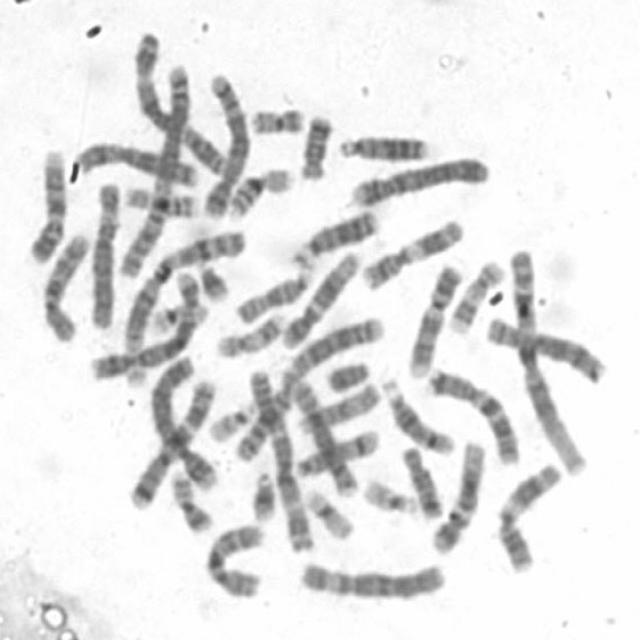A1: (111, 219, 251, 388), (505, 238, 592, 480)
A2: (228, 310, 386, 465), (113, 56, 193, 282)
A3: (127, 26, 229, 176), (243, 362, 318, 554)
B4: (146, 351, 222, 493), (345, 148, 494, 208)
B5: (83, 264, 208, 383), (198, 68, 254, 220)
C10: (36, 226, 94, 344), (199, 515, 268, 601)
C11: (489, 455, 564, 574), (356, 212, 467, 291)
C12: (275, 242, 364, 350), (424, 432, 488, 556)
C6: (293, 553, 452, 603), (84, 174, 124, 333)
C7: (124, 372, 218, 510), (421, 359, 524, 466)
C8: (274, 364, 366, 501), (482, 309, 610, 386)
C9: (403, 258, 464, 379), (23, 140, 71, 266)
D13: (286, 202, 382, 267), (333, 126, 432, 164)
D14: (379, 372, 457, 456), (288, 422, 382, 480)
D15: (230, 258, 318, 326), (293, 377, 385, 434)
E16: (221, 160, 297, 220), (120, 180, 202, 219)
E17: (443, 252, 508, 335), (210, 304, 290, 360)
E18: (395, 439, 446, 520), (294, 108, 336, 182)
F19: (299, 481, 357, 541), (144, 295, 210, 335)
F20: (164, 465, 216, 535), (244, 99, 308, 136)
G21: (247, 464, 280, 524), (192, 256, 232, 303)
G22: (357, 471, 421, 518), (203, 395, 259, 444)
X: (68, 134, 201, 188)
Y: (321, 354, 373, 394)
